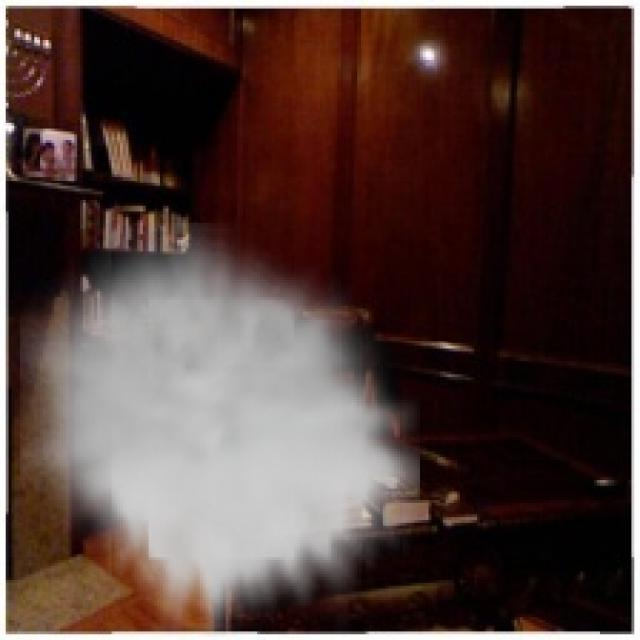smoke: (20, 223, 420, 637)
